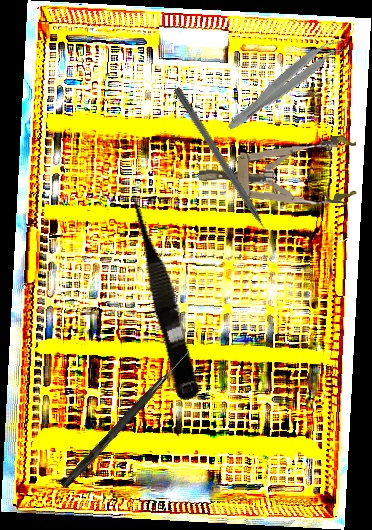Hook Surgical: (60, 347, 192, 491)
Micro Scissor: (123, 186, 205, 403)
Pusher: (171, 86, 279, 250)
Speculum: (197, 135, 359, 208)
Tissue Forceps: (223, 30, 349, 140)
